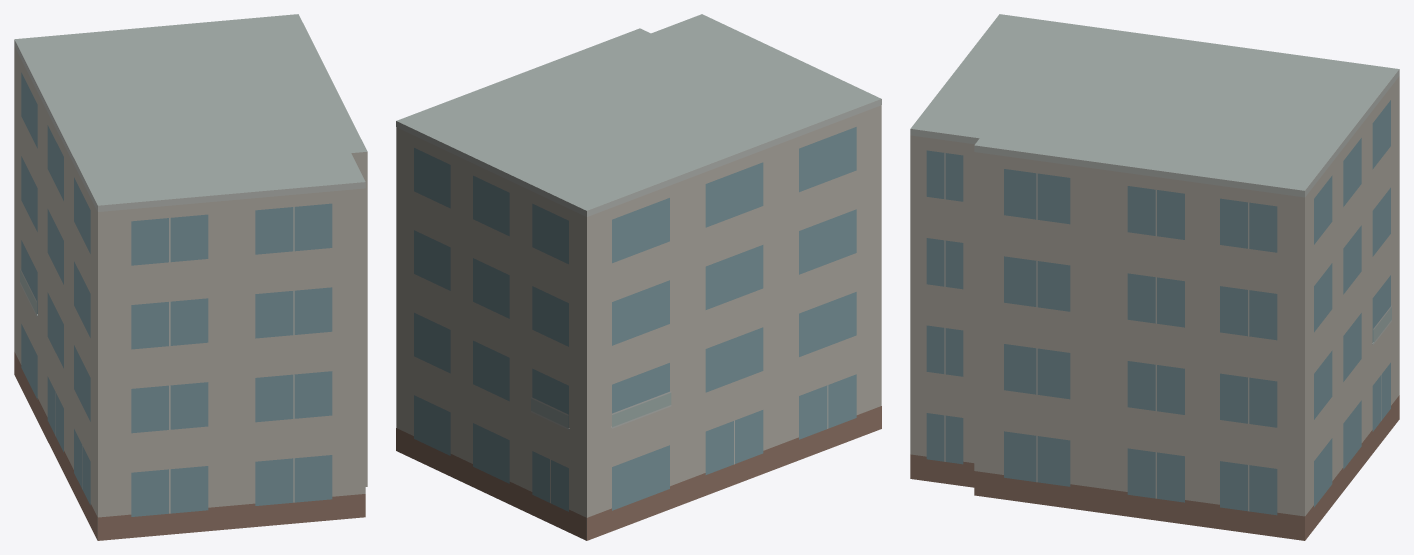
Rendered from survey-upis-32469822.glb.
3 renders of one model, left to right at view 1: azimuth 30°, elevation 25°; view 2: azimuth 150°, elevation 25°; view 3: azimuth 270°, elevation 25°, orthographic. The views are drawn at different scales.
Visible parts, largest first — view 1: survey-upis-32469822.tmp; view 2: survey-upis-32469822.tmp; view 3: survey-upis-32469822.tmp.
Part boxes in pixels (x1=…): survey-upis-32469822.tmp: x1=14, y1=14, x2=367, y2=540; survey-upis-32469822.tmp: x1=396, y1=14, x2=881, y2=540; survey-upis-32469822.tmp: x1=910, y1=14, x2=1399, y2=540.
Size of the model in its own units: 13.99 by 12.9 by 16.35.
